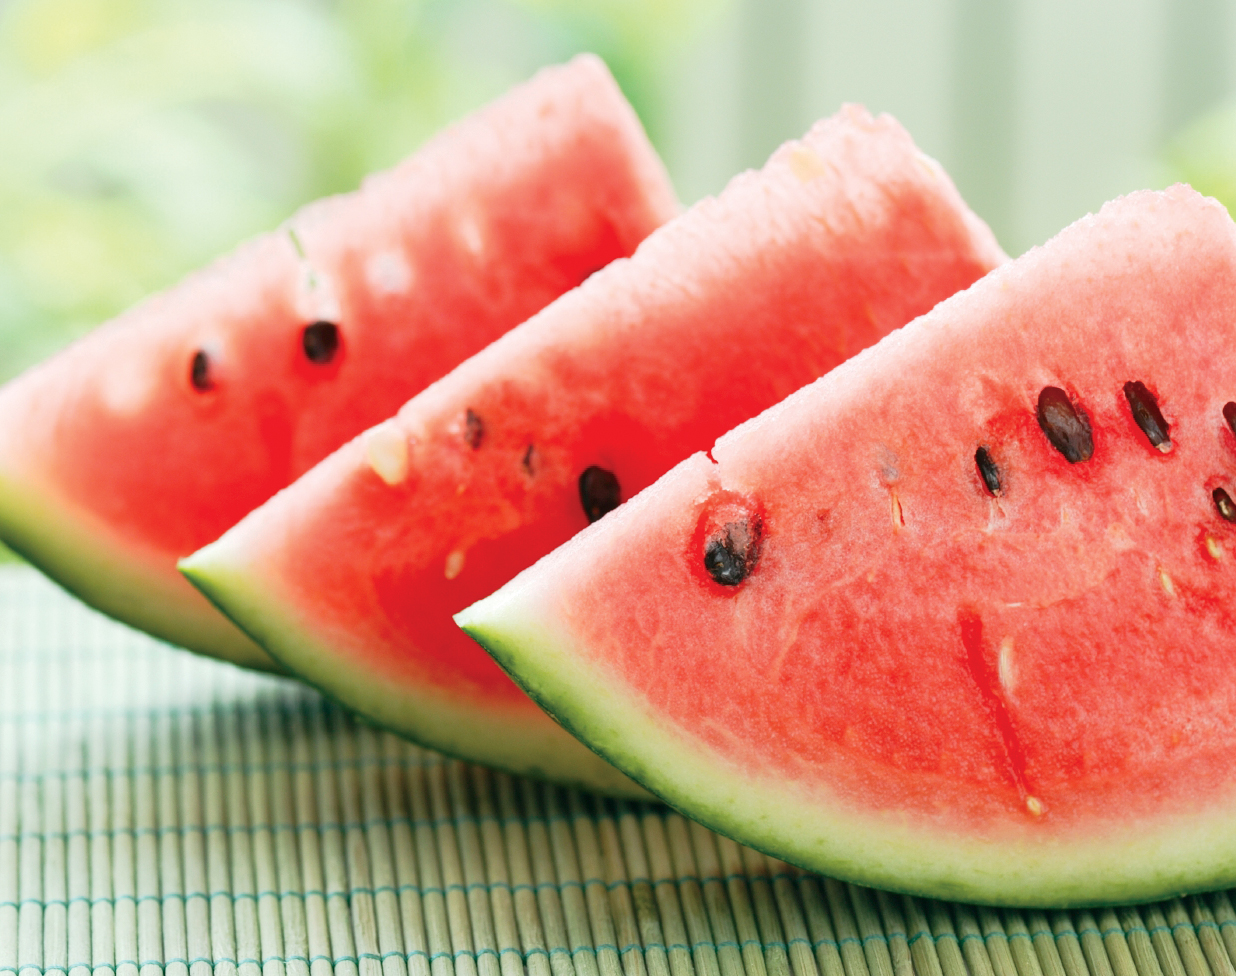watermelon: (659, 194, 1236, 863), (53, 60, 645, 614)
